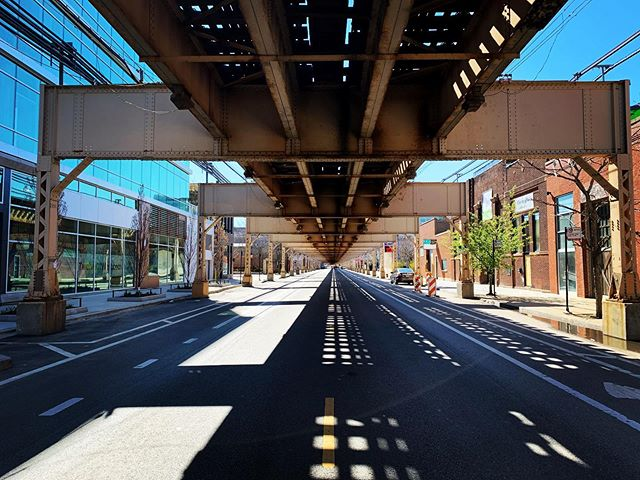bridge: (28, 1, 611, 238)
building: (1, 1, 180, 282), (544, 111, 640, 304), (462, 145, 550, 289)
street: (1, 265, 640, 480)
